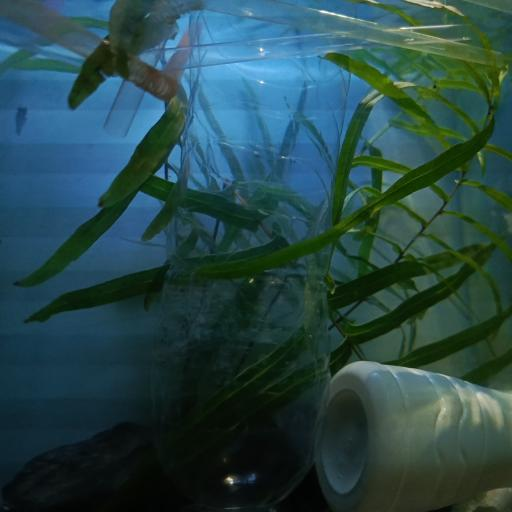plastic_bottle: (149, 0, 358, 512), (313, 359, 512, 512)
plastic_straw: (109, 0, 469, 134), (200, 0, 502, 73), (0, 0, 178, 103)
